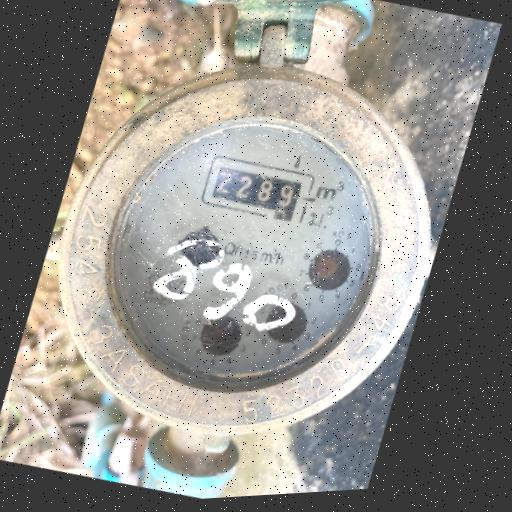2: (229, 169, 259, 206), (212, 166, 239, 202)
8: (249, 173, 284, 211)
9: (271, 178, 303, 222)
border_water_meter_number: (198, 148, 317, 230)
